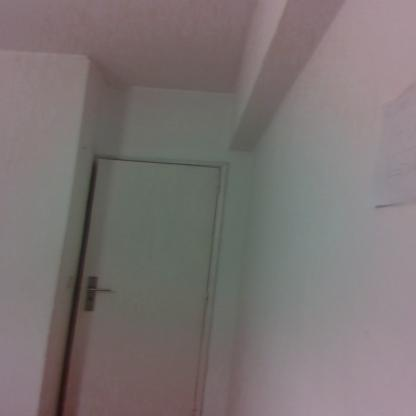door: (78, 156, 200, 416)
hinged: (203, 290, 210, 306), (216, 178, 221, 196), (191, 404, 197, 416)
lever: (87, 288, 113, 292)
